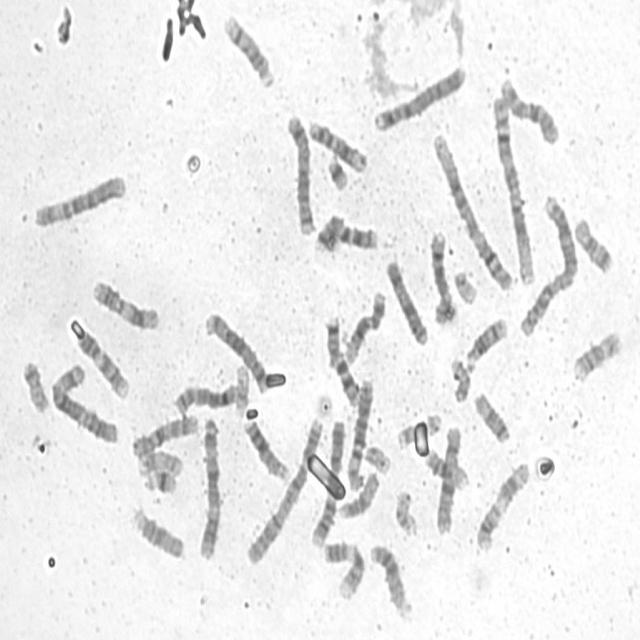A1: (428, 125, 516, 293), (488, 87, 538, 286)
A2: (241, 411, 325, 567), (514, 187, 579, 339)
A3: (46, 356, 121, 446), (193, 411, 223, 561)
B4: (369, 58, 468, 134), (310, 420, 346, 550)
B5: (200, 305, 271, 396), (282, 107, 317, 237)
C10: (496, 70, 562, 147), (127, 407, 200, 460)
C11: (472, 454, 532, 554), (88, 272, 162, 332)
C12: (304, 112, 369, 174), (340, 284, 388, 364)
C6: (29, 167, 128, 230), (344, 372, 376, 492)
C7: (321, 310, 362, 406), (310, 208, 380, 256)
C8: (424, 224, 458, 326), (171, 375, 240, 416)
C9: (65, 311, 131, 401), (318, 534, 366, 600)
D13: (366, 536, 411, 620), (240, 413, 290, 483)
D14: (220, 8, 276, 90), (461, 309, 509, 374)
D15: (128, 499, 187, 561), (333, 464, 381, 521)
E16: (568, 324, 624, 384), (422, 442, 470, 491)
E17: (394, 407, 444, 450), (134, 443, 184, 478)
E18: (570, 210, 616, 275), (470, 385, 512, 445)
F19: (393, 492, 418, 537)
F20: (17, 352, 51, 415), (447, 351, 472, 404)
G21: (138, 462, 178, 496), (323, 148, 350, 192)
G22: (230, 358, 252, 417), (360, 438, 392, 476)
X: (381, 253, 431, 347), (432, 419, 464, 536)
